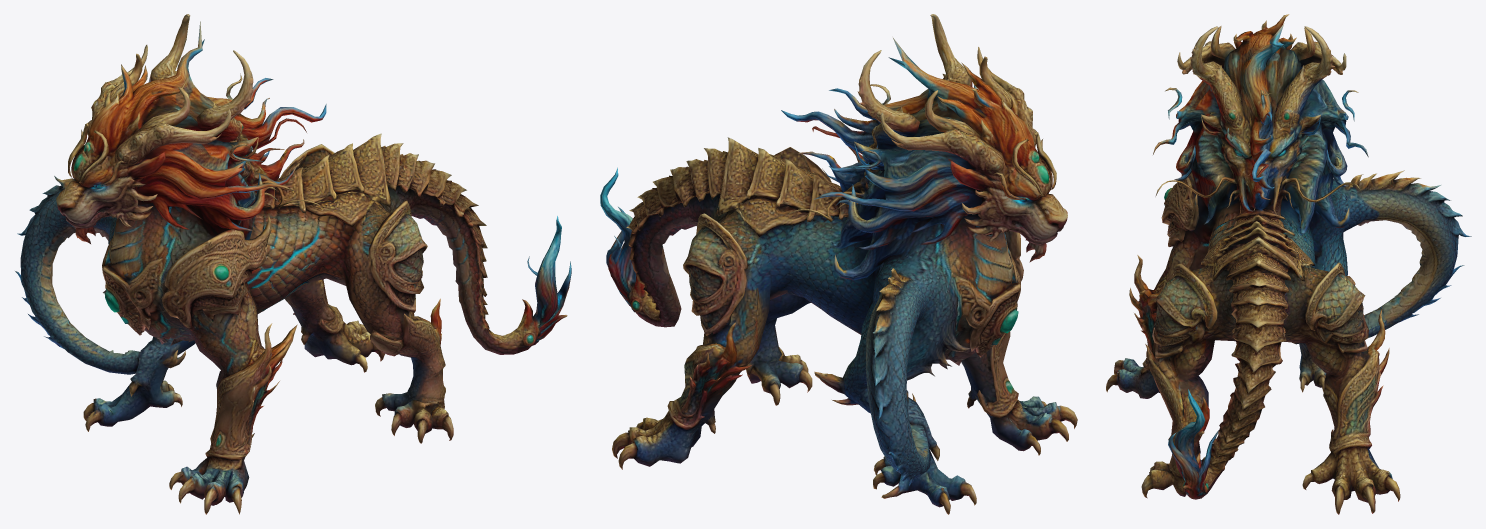
Rendered from 5c1ff8c2-9635-4910-924c-b2eca2720248_model.glb.
The picture shows the model from 3 angles, left to right: view 1: azimuth 30°, elevation 25°; view 2: azimuth 150°, elevation 25°; view 3: azimuth 270°, elevation 25°; orthographic projection. The views are drawn at different scales.
Parts seen in each view (by area): view 1: tripo_node_5c1ff8c2-9635-4910-924c-b2eca2720248; view 2: tripo_node_5c1ff8c2-9635-4910-924c-b2eca2720248; view 3: tripo_node_5c1ff8c2-9635-4910-924c-b2eca2720248.
Part boxes in pixels (x1,y1,x2,y2): tripo_node_5c1ff8c2-9635-4910-924c-b2eca2720248: (15, 14, 571, 514); tripo_node_5c1ff8c2-9635-4910-924c-b2eca2720248: (600, 14, 1077, 514); tripo_node_5c1ff8c2-9635-4910-924c-b2eca2720248: (1106, 14, 1471, 514).
Size of the model in its own units: 1.78 by 1.5 by 1.26.
Materials: 1 (1 with a texture image).
